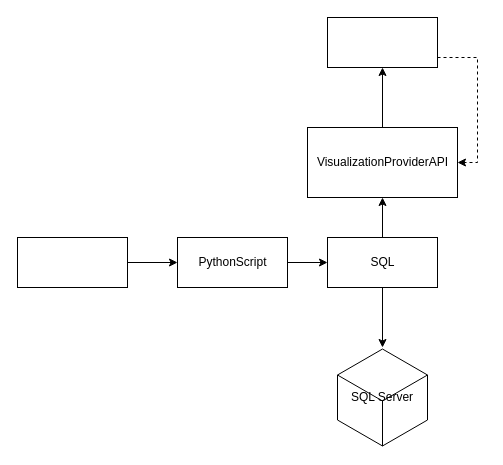
The diagram is 503 pixels wide and 465 high, and some of its shapes have lost their labels. The shapes that lost their labels are listed below. From the top down, each one's box as (x1, y1, x2, y2) in pixels, then its label:
(326, 16, 438, 68): Unreal
(16, 236, 128, 288): External API
